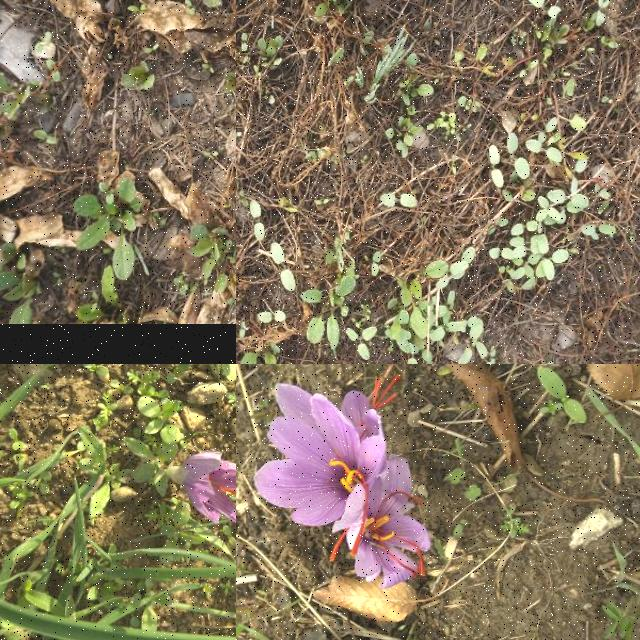flower: (174, 451, 236, 524)
overlap: (252, 374, 430, 590)
